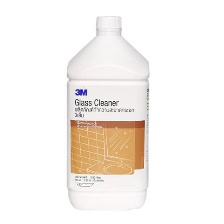cleaning_solution: (62, 13, 152, 213)
